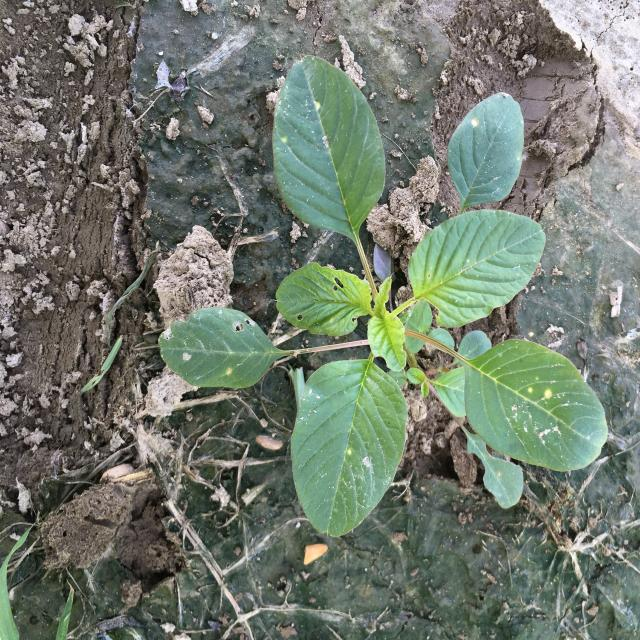PalmerAmaranth: (158, 55, 608, 538)
